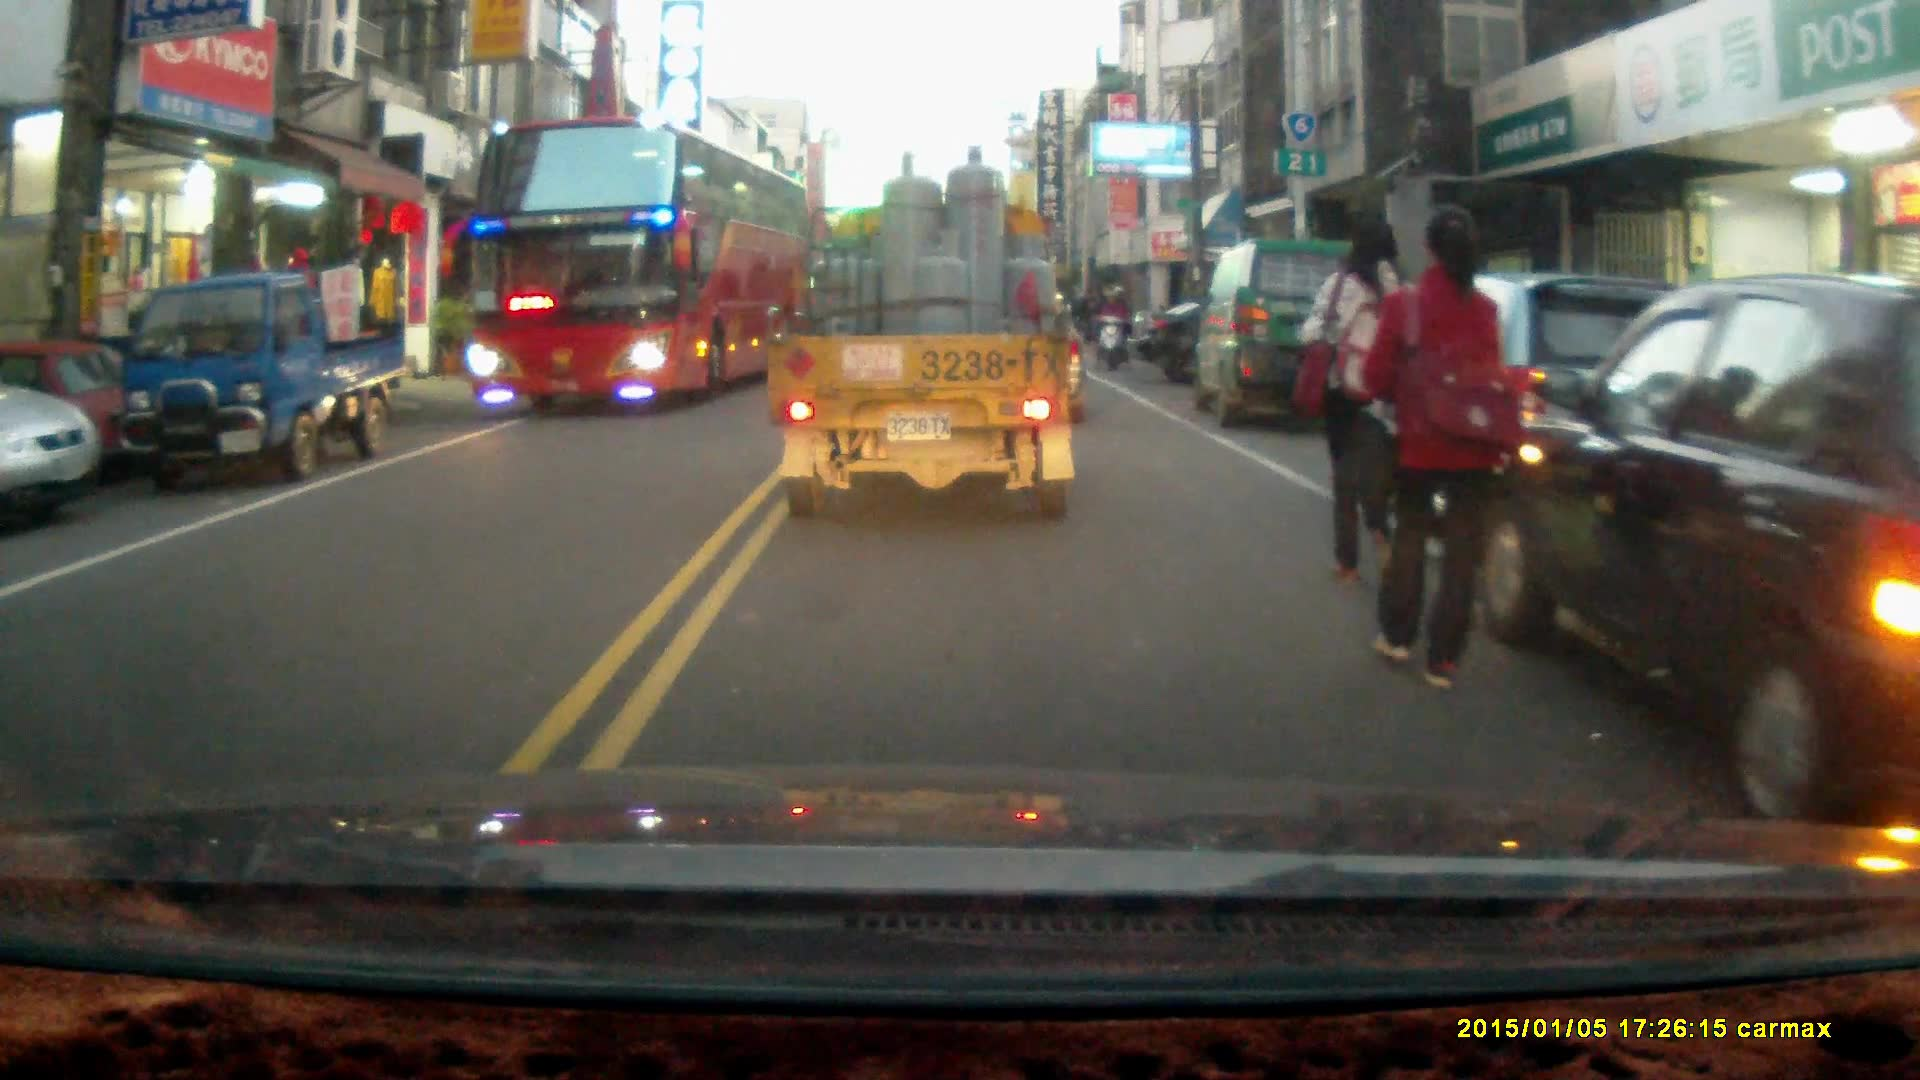pedestrian: (1357, 207, 1513, 696), (1307, 210, 1429, 597)
rider: (1093, 282, 1134, 370)
vehicle: (1472, 273, 1920, 815), (763, 143, 1084, 521), (460, 115, 810, 418), (116, 273, 404, 482), (1198, 235, 1385, 425), (1, 370, 101, 521)
